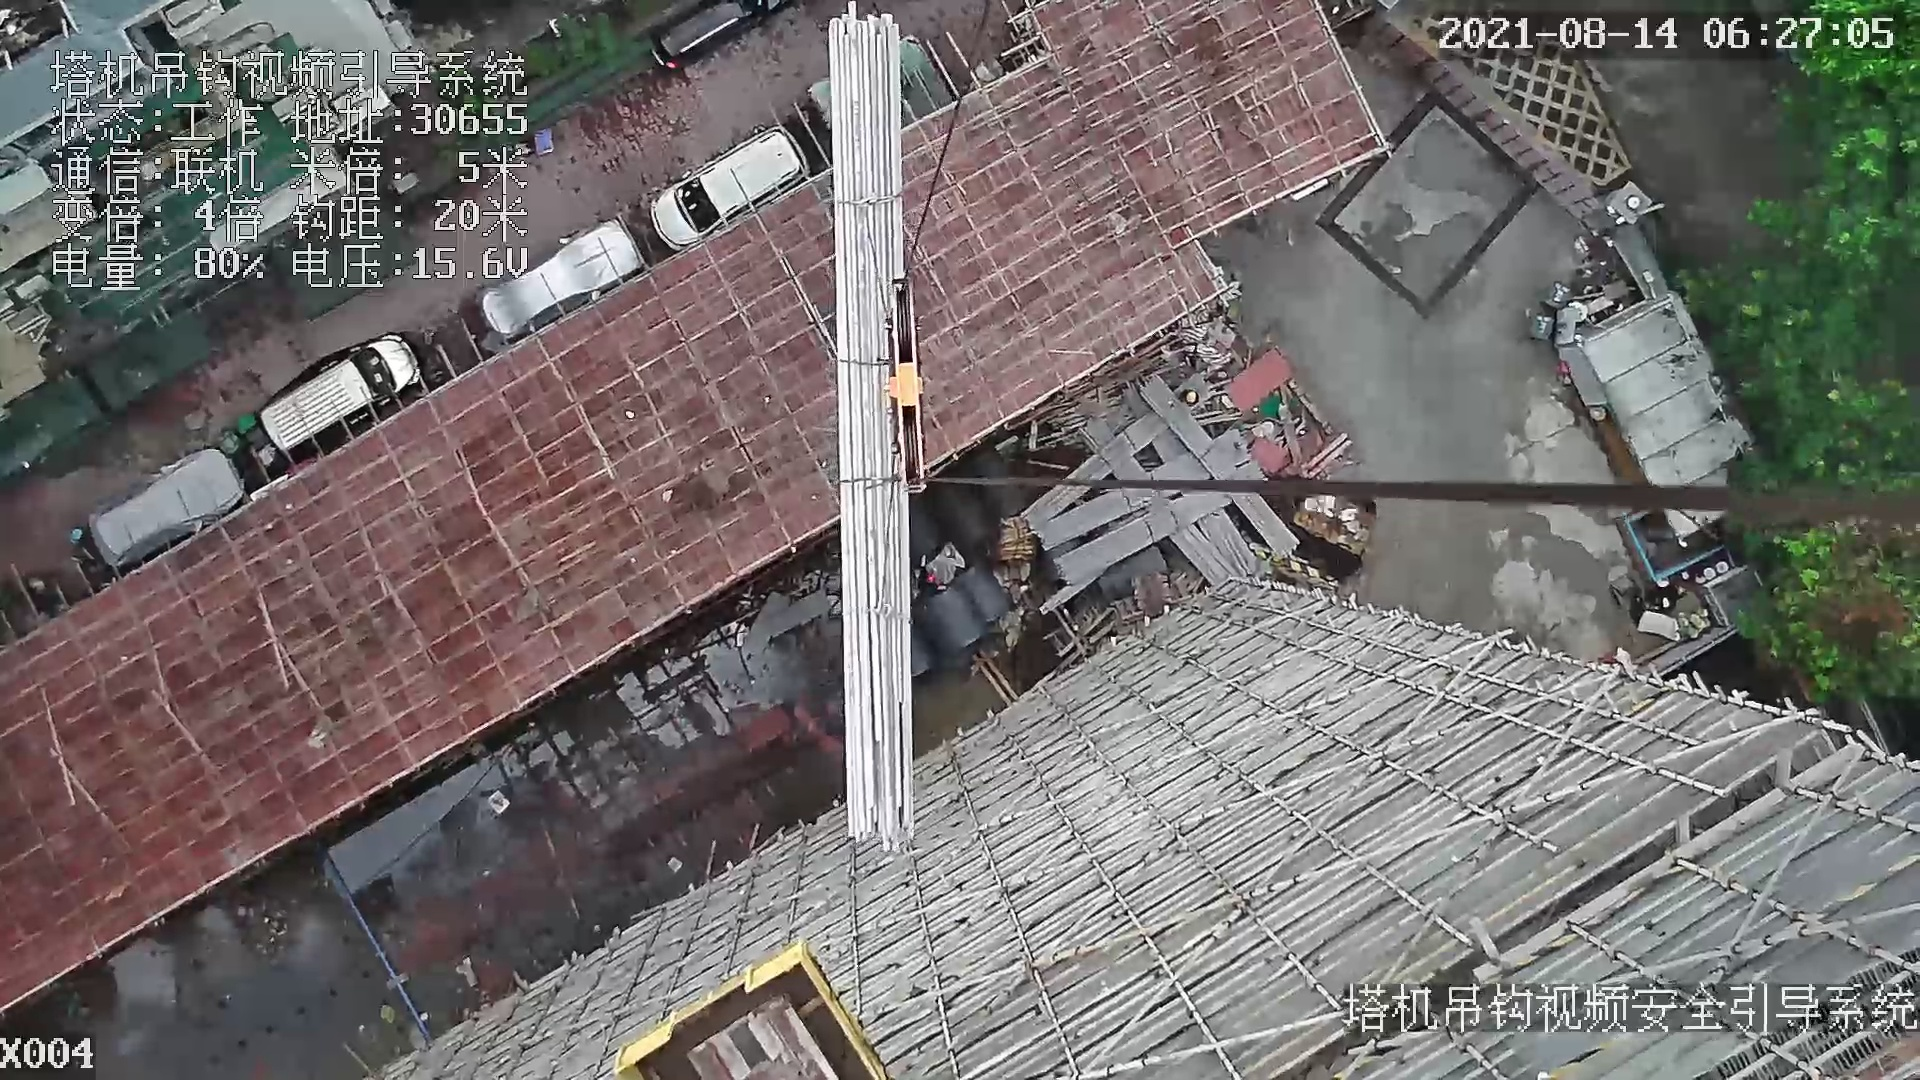hook: (876, 277, 938, 500)
